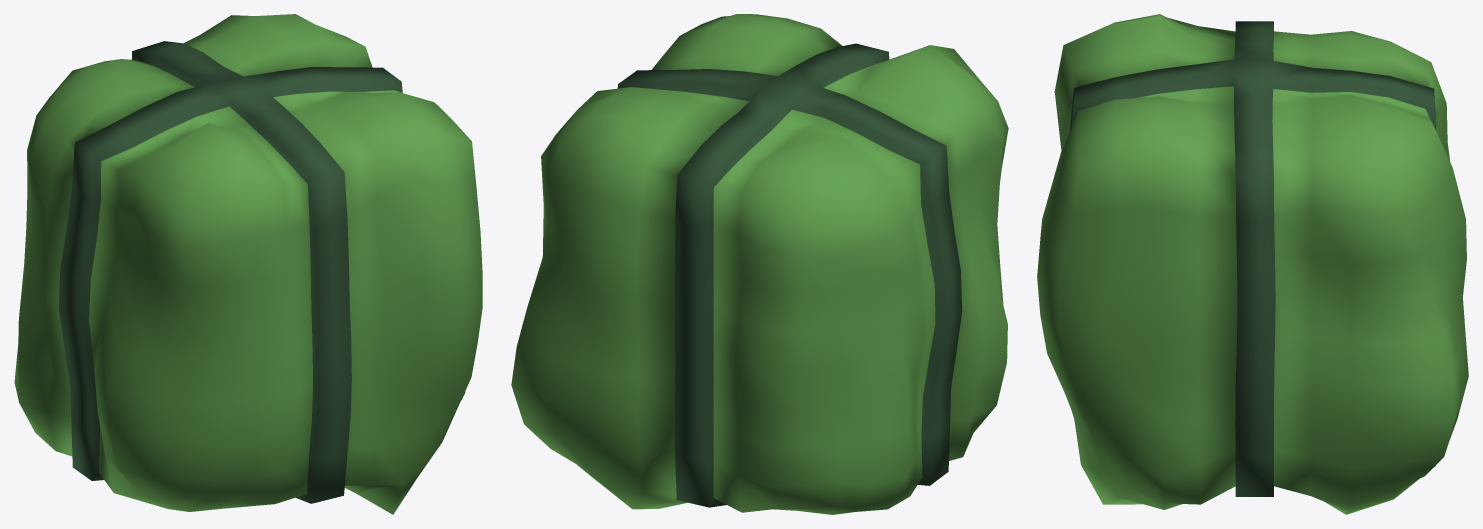
File: kelpcube.fbx
3 renders of one model, left to right at view 1: azimuth 30°, elevation 25°; view 2: azimuth 150°, elevation 25°; view 3: azimuth 270°, elevation 25°, orthographic.
Visible parts, largest first — view 1: seaweedcube; view 2: seaweedcube; view 3: seaweedcube.
Boxes of the visible parts, bbox=[...] form: seaweedcube: bbox=[14, 14, 482, 514]; seaweedcube: bbox=[511, 14, 1008, 514]; seaweedcube: bbox=[1037, 14, 1468, 514].
Size of the model in its own units: 245 by 274 by 254.
